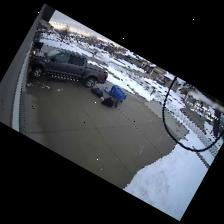person: (101, 97, 118, 107)
